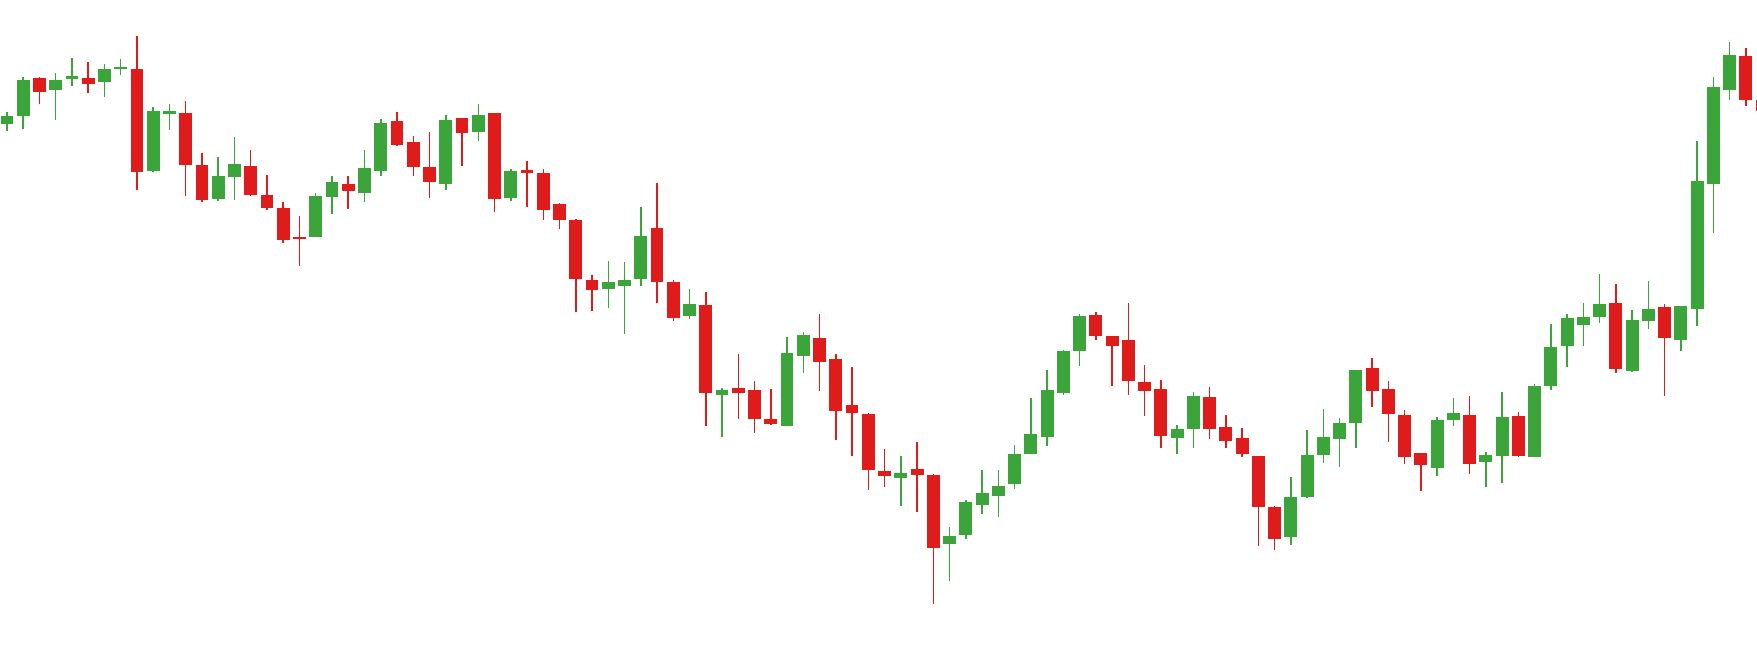sell: (226, 108, 406, 198), (732, 311, 826, 413)
